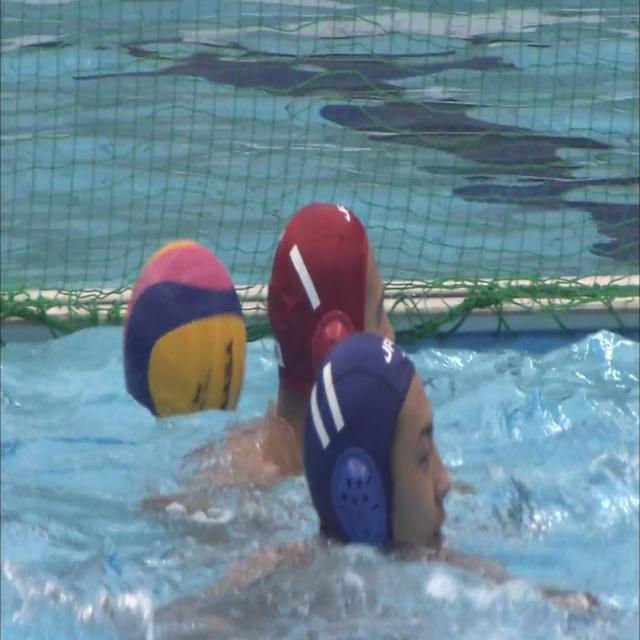ball: (123, 241, 247, 417)
